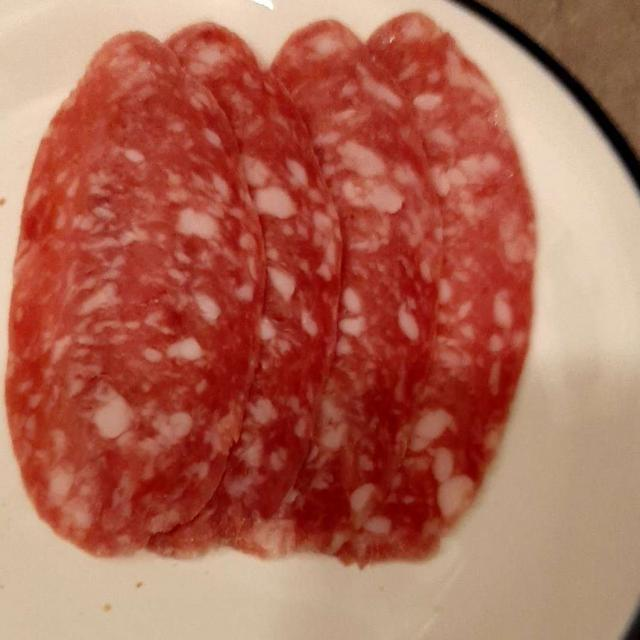salami: (25, 20, 532, 553)
